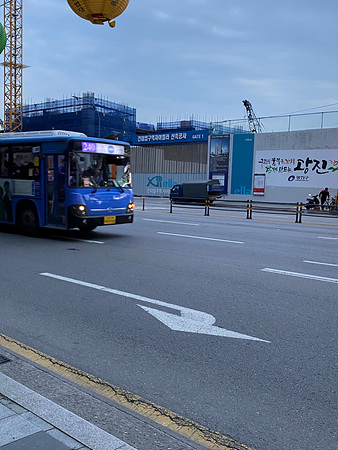entrance: (42, 150, 69, 225)
